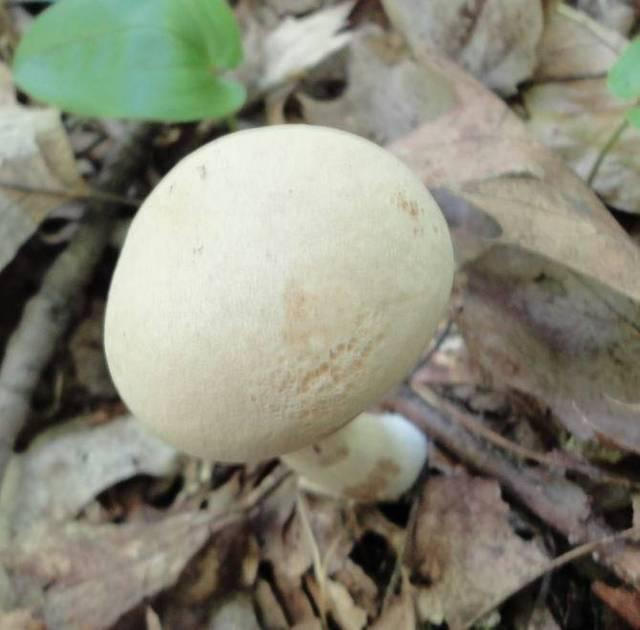Edible Mushroom: (101, 121, 457, 504)
